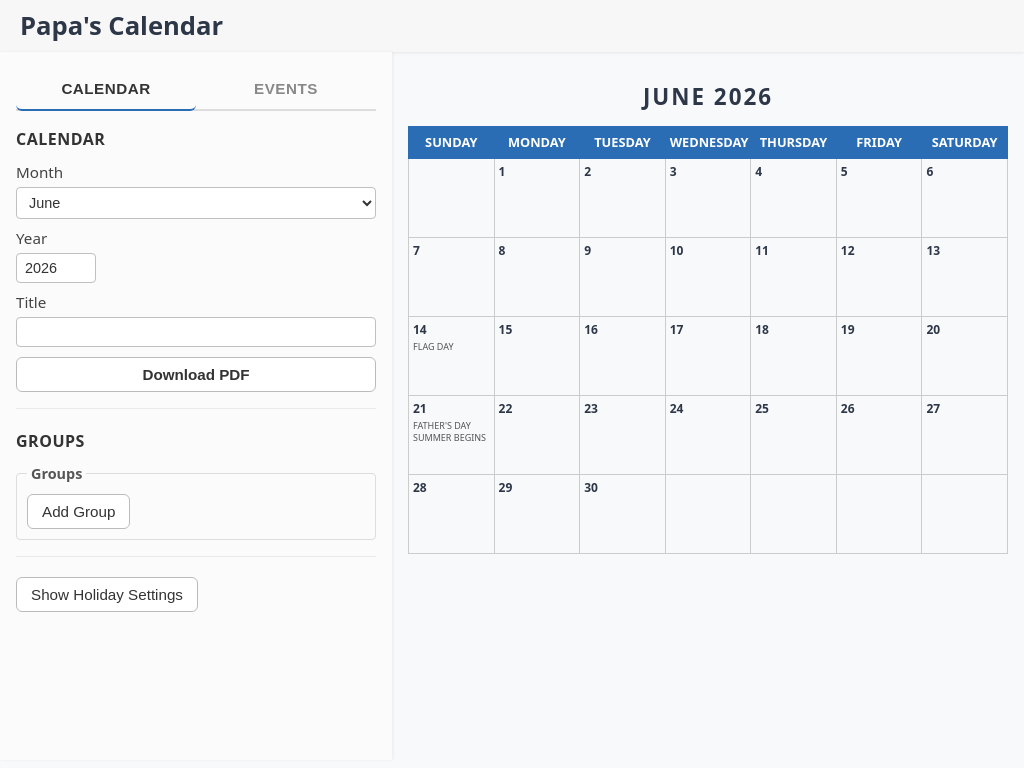
Test: clicking Events tab shows event form and hides calendar settings
What coordinates should you click on to do the following:
click the button "Events"
I would click on:
 (286, 90)
Its box is [196,68,376,111].
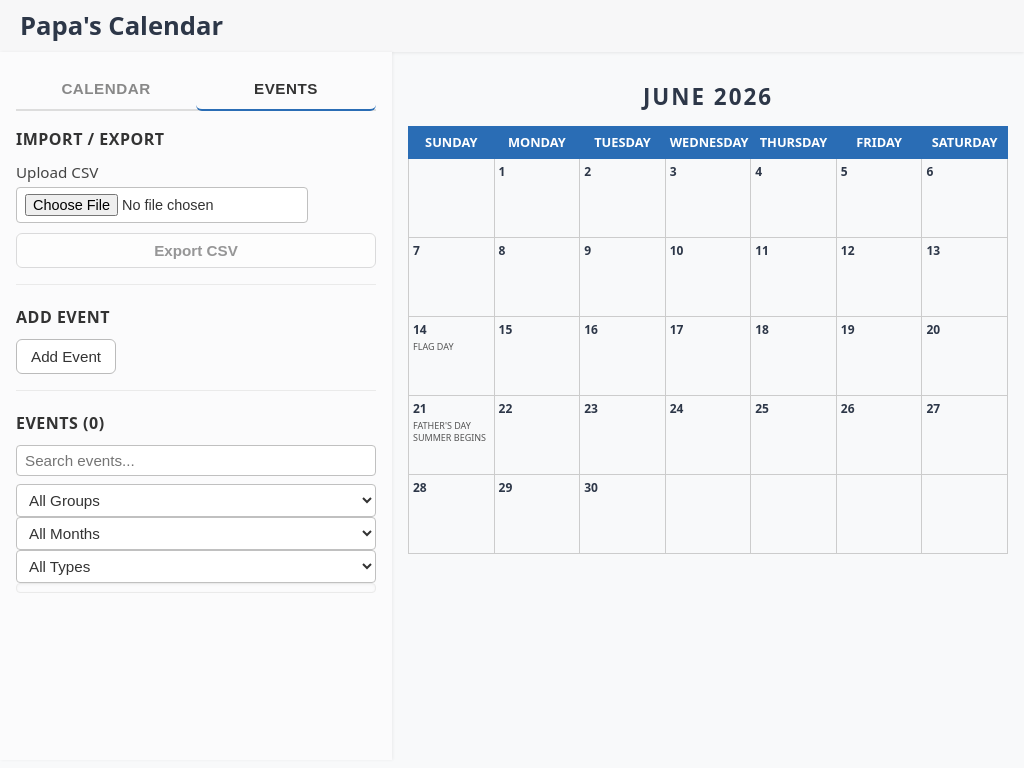
Result: the heading "Add Event" is shown at [16,306,110,328]
Result: the heading "Import / Export" is shown at [16,128,165,150]
